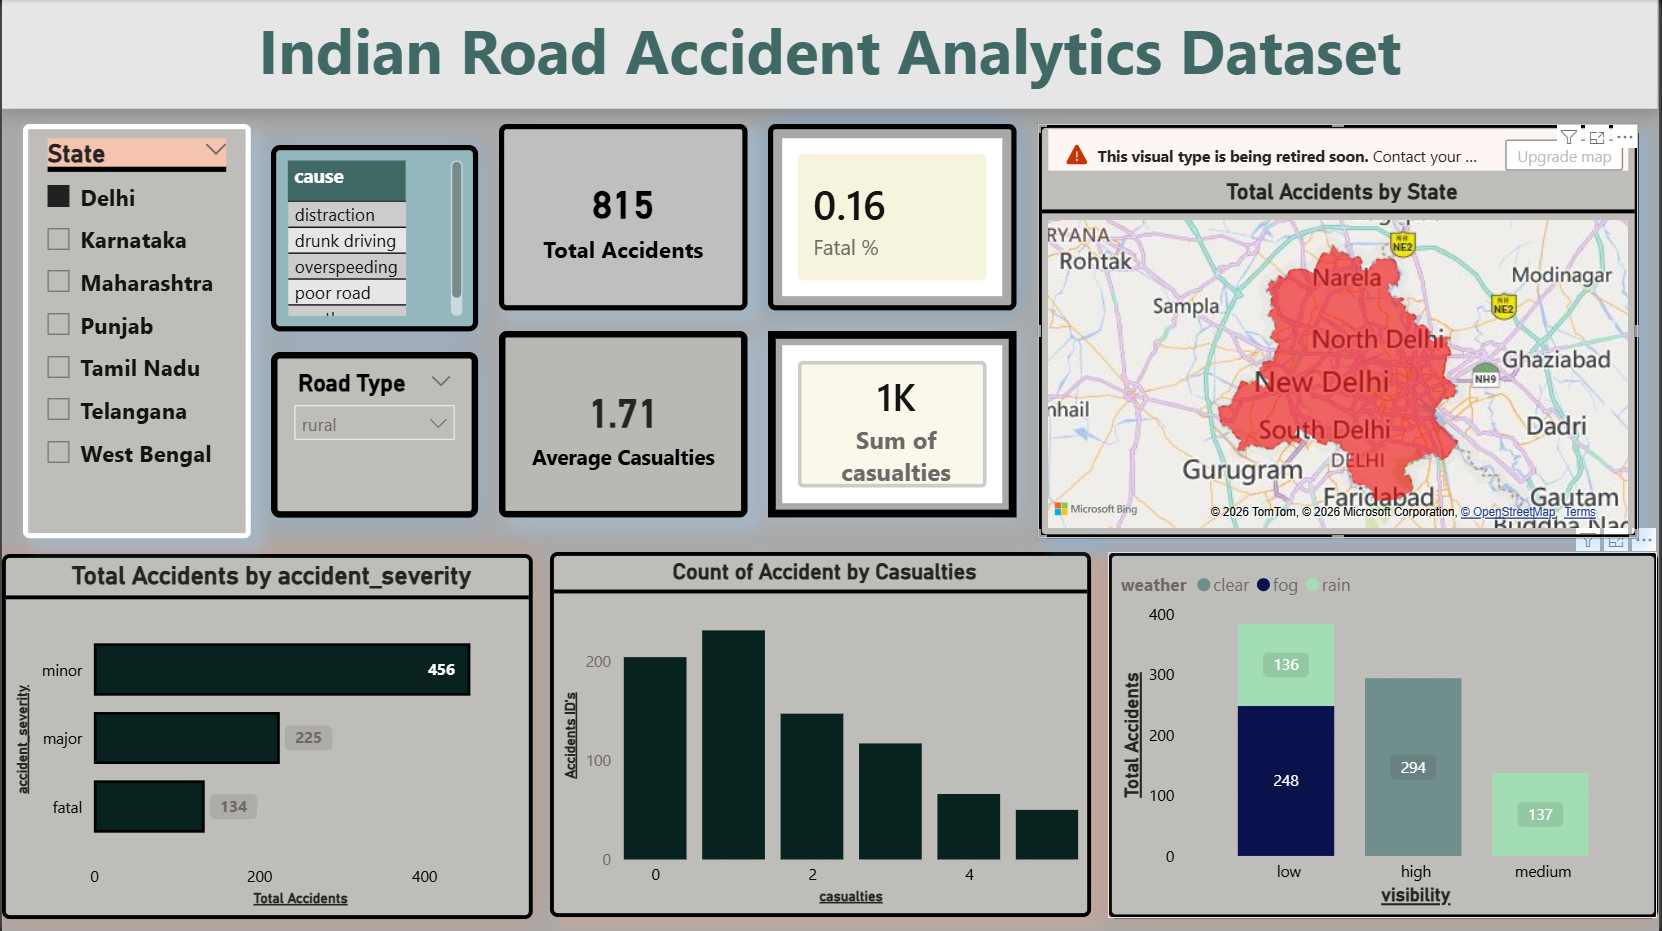

What the dashboard file says about the page in this screenshot:
{"tool":"powerbi","page":{"name":"Page 2","canvas":[1280,720],"ordinal":0},"visuals":[{"type":"textbox","box":[0,0,1279.3,84.5],"z":0},{"type":"card","fields":{"Values":["indian_roads_dataset.Total Accidents"]},"box":[384,96,192,144],"z":1000},{"type":"card","fields":{"Values":["indian_roads_dataset.Average Casualties"]},"box":[384,256,192,144],"z":2000},{"type":"filledMap","title":"Total Accidents by State","fields":{"Category":["indian_roads_dataset.state"]},"box":[800,96,464,320],"z":3000},{"type":"barChart","fields":{"Category":["indian_roads_dataset.accident_severity"],"Y":["indian_roads_dataset.Total Accidents"]},"box":[0,427.9,410.4,281.5],"z":4000},{"type":"columnChart","title":"Count of Accident by Visibility and Weather","fields":{"Category":["indian_roads_dataset.visibility"],"Series":["indian_roads_dataset.weather"],"Y":["indian_roads_dataset.Total Accidents"]},"box":[854.2,426.3,424.7,283.1],"z":5000},{"type":"slicer","fields":{"Values":["indian_roads_dataset.state"]},"box":[16,96,176,320],"z":6000},{"type":"clusteredColumnChart","title":"Count of Accident by Casualties","fields":{"Category":["indian_roads_dataset.casualties"],"Y":["Count(indian_roads_dataset.accident_id)"]},"box":[423.1,426.3,418.3,281.5],"z":7000},{"type":"cardVisual","fields":{"Data":["indian_roads_dataset.Fatal %"]},"box":[592,96,192,144],"z":8000},{"type":"cardVisual","fields":{"Data":["Sum(indian_roads_dataset.casualties)"]},"box":[592,256,192,144],"z":9000},{"type":"tableEx","fields":{"Values":["indian_roads_dataset.cause"]},"box":[208,112,160,144],"z":10000},{"type":"slicer","fields":{"Values":["indian_roads_dataset.road_type"]},"box":[208,272,160,128],"z":11000}]}

Visuals, with their boxes in screenshot pixels (x1, y1, x2, y2), scaled from the page's 1280x720 canvas onto the 1662x931 screenshot:
textbox: 0:0:1661:109
card - indian_roads_dataset.Total Accidents: 499:124:748:310
card - indian_roads_dataset.Average Casualties: 499:331:748:517
"Total Accidents by State" filledMap: 1039:124:1641:538
barChart - indian_roads_dataset.accident_severity x indian_roads_dataset.Total Accidents: 0:553:533:917
"Count of Accident by Visibility and Weather" columnChart: 1109:551:1661:917
slicer - indian_roads_dataset.state: 21:124:249:538
"Count of Accident by Casualties" clusteredColumnChart: 549:551:1093:915
cardVisual - indian_roads_dataset.Fatal %: 769:124:1018:310
cardVisual - Sum(indian_roads_dataset.casualties): 769:331:1018:517
tableEx - indian_roads_dataset.cause: 270:145:478:331
slicer - indian_roads_dataset.road_type: 270:352:478:517
